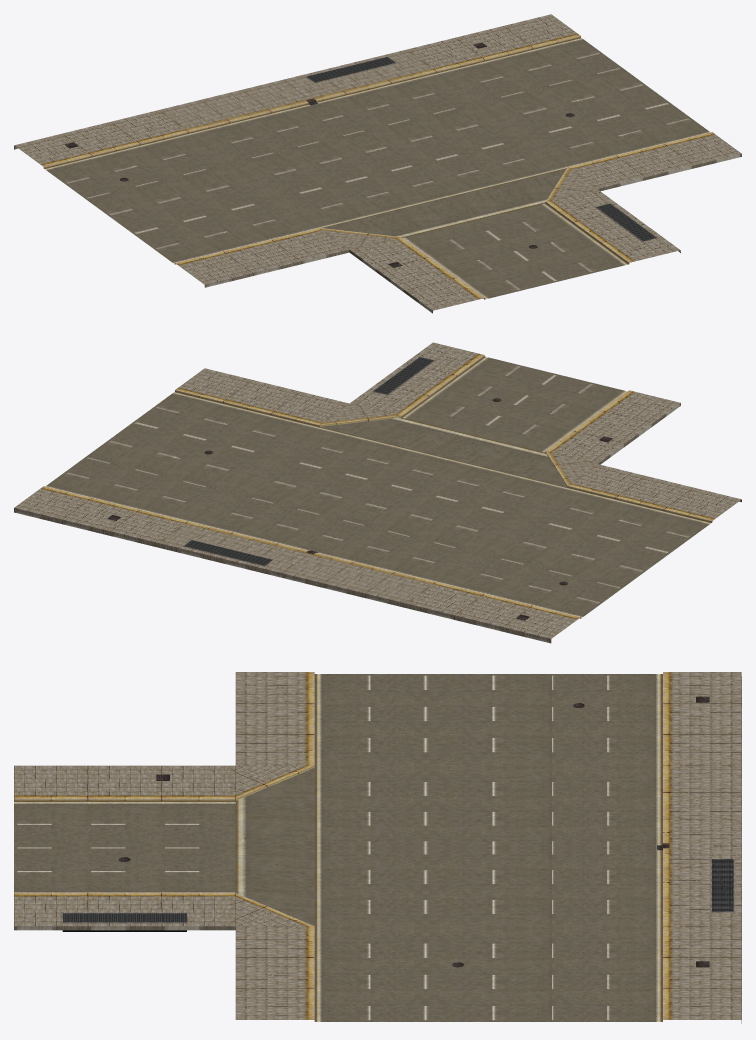
File: Road2_Part_02_B.fbx
3 renders of one model, top to bottom at view 1: azimuth 30°, elevation 25°; view 2: azimuth 150°, elevation 25°; view 3: azimuth 270°, elevation 25°, orthographic. The views are drawn at different scales.
Visible parts, largest first — view 1: Model_Road2_Part_02_B; view 2: Model_Road2_Part_02_B; view 3: Model_Road2_Part_02_B.
Boxes of the visible parts, box(x1,y1,x2,y2) form: Model_Road2_Part_02_B: box(14, 14, 741, 313); Model_Road2_Part_02_B: box(14, 342, 741, 643); Model_Road2_Part_02_B: box(14, 672, 741, 1023).
Bounding box in the file's own units: 2047 × 25.79 × 1811.
